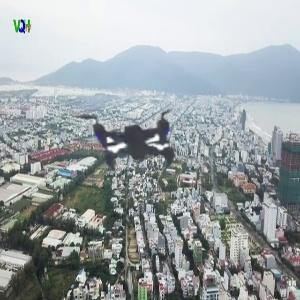drone: (33, 34, 238, 239)
